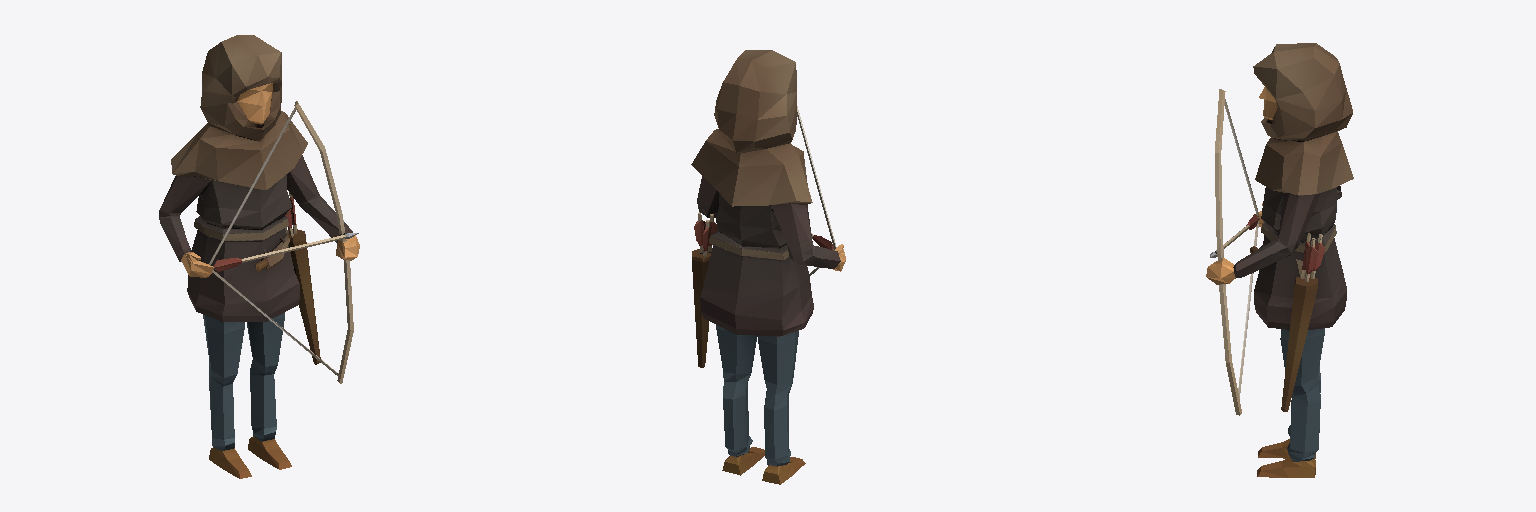
3 renders of one model, left to right at view 1: azimuth 30°, elevation 25°; view 2: azimuth 150°, elevation 25°; view 3: azimuth 270°, elevation 25°, orthographic.
Parts seen in each view (by area): view 1: Archer_mesh; view 2: Archer_mesh; view 3: Archer_mesh.
Part boxes in pixels (bbox=[...]): Archer_mesh: bbox=[159, 35, 359, 478]; Archer_mesh: bbox=[691, 50, 845, 484]; Archer_mesh: bbox=[1206, 43, 1353, 477].
Size of the model in its own units: 4.29 by 11.27 by 3.62.
1 materials, 1 textured.